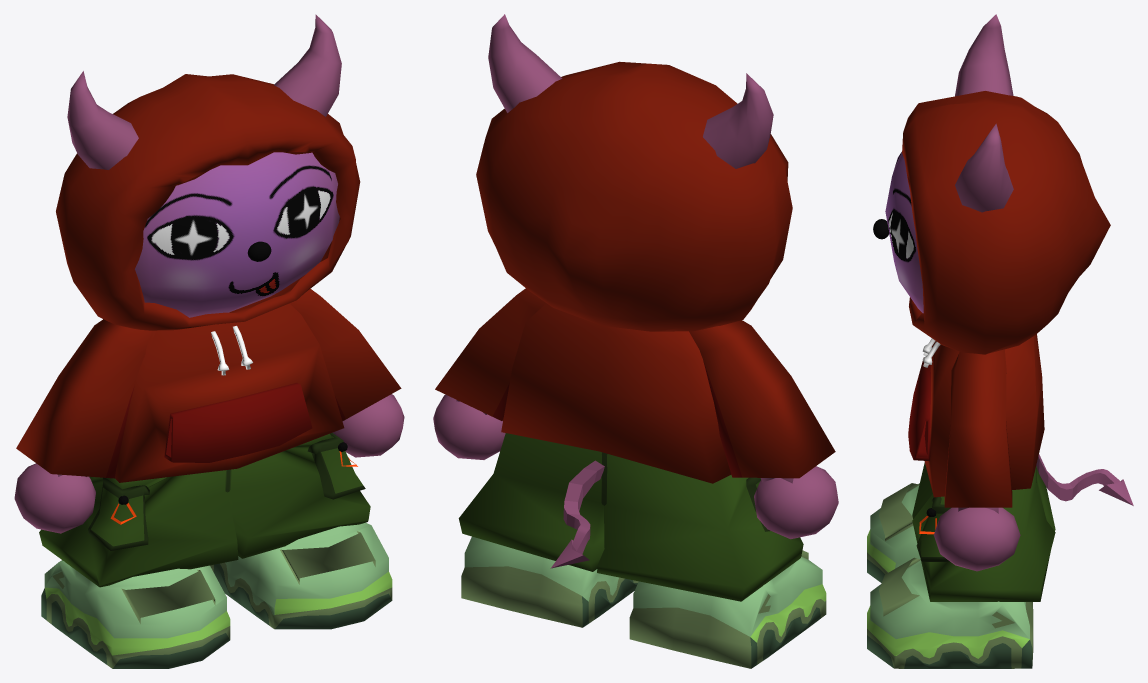
File: kitsy.glb
3 views of the same model, side by side, from view 1: azimuth 30°, elevation 25°; view 2: azimuth 150°, elevation 25°; view 3: azimuth 270°, elevation 25° (orthographic). The views are drawn at different scales.
Parts seen in each view (by area): view 1: Red hoodie.001, Chrome Horns.004, Green Angel Platforms.002, Cargo Pants, tan hands.003; view 2: Red hoodie.001, Cargo Pants, Green Angel Platforms.002, tan hands.003, Chrome Horns.004, Devil Tail.004; view 3: Red hoodie.001, Green Angel Platforms.002, Cargo Pants, Chrome Horns.004, tan hands.003, Devil Tail.004.
Boxes of the visible parts, left/top/right/bottom form: Red hoodie.001: left=16, top=74, right=401, bottom=482; Chrome Horns.004: left=67, top=14, right=341, bottom=317; Green Angel Platforms.002: left=41, top=522, right=392, bottom=668; Cargo Pants: left=39, top=432, right=370, bottom=587; tan hands.003: left=14, top=394, right=404, bottom=533; Red hoodie.001: left=435, top=61, right=835, bottom=483; Cargo Pants: left=458, top=433, right=803, bottom=601; Green Angel Platforms.002: left=461, top=536, right=826, bottom=668; tan hands.003: left=433, top=394, right=838, bottom=539; Chrome Horns.004: left=488, top=14, right=773, bottom=168; Devil Tail.004: left=550, top=460, right=604, bottom=568; Red hoodie.001: left=902, top=91, right=1110, bottom=507; Green Angel Platforms.002: left=867, top=483, right=1033, bottom=668; Cargo Pants: left=912, top=462, right=1055, bottom=601; Chrome Horns.004: left=885, top=14, right=1013, bottom=313; tan hands.003: left=933, top=507, right=1020, bottom=571; Devil Tail.004: left=1036, top=454, right=1133, bottom=505.
Bounding box in the file's own units: 2.78 × 3.91 × 1.77.
16 materials, 3 textured.
